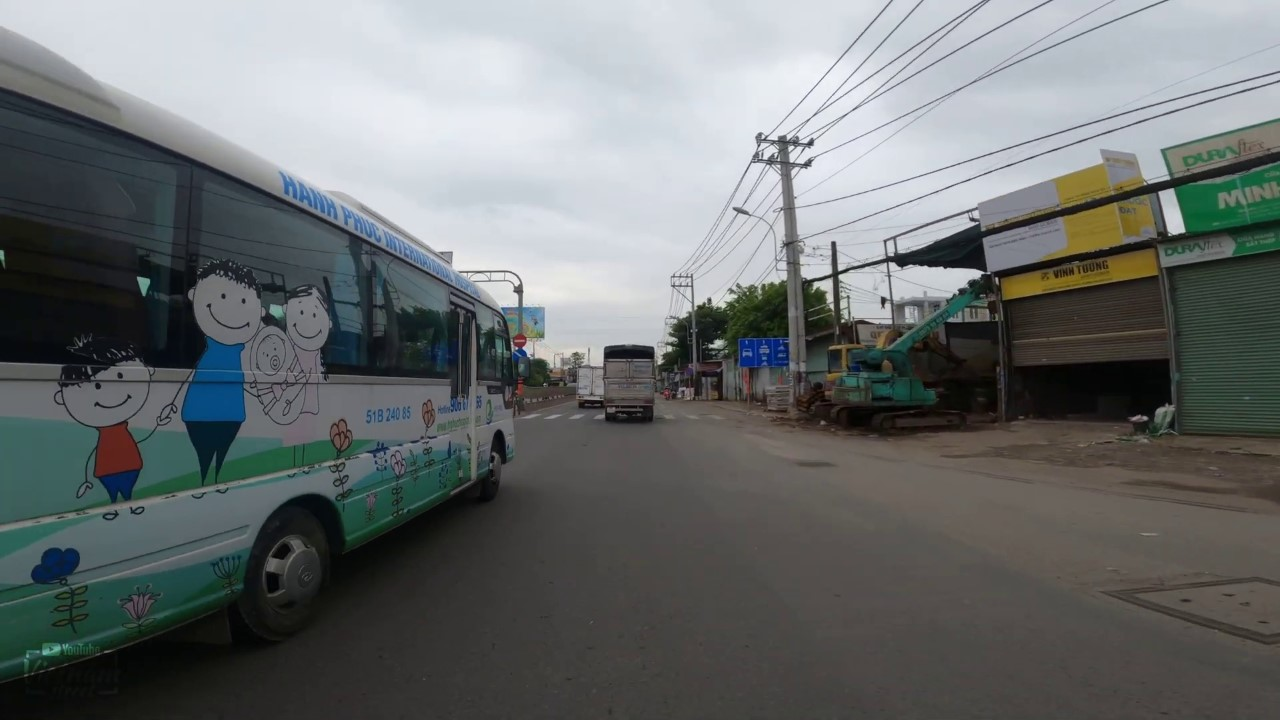cam_nguoc_chieu: (512, 332, 527, 349)
